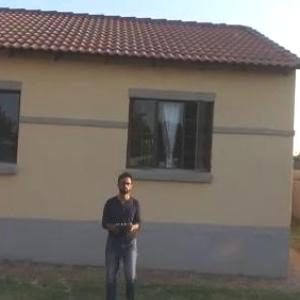follow: (99, 169, 150, 299)
